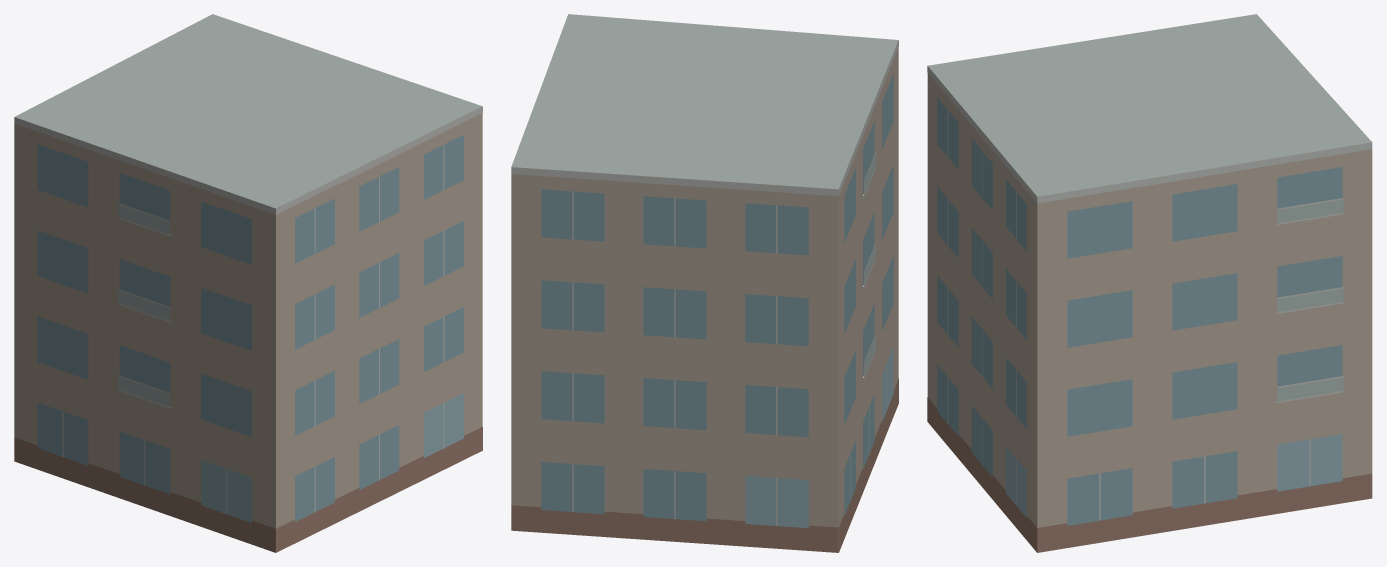
File: survey-upis-32967480.glb
3 renders of one model, left to right at view 1: azimuth 30°, elevation 25°; view 2: azimuth 150°, elevation 25°; view 3: azimuth 270°, elevation 25°, orthographic. The views are drawn at different scales.
Visible parts, largest first — view 1: survey-upis-32967480.tmp; view 2: survey-upis-32967480.tmp; view 3: survey-upis-32967480.tmp.
Boxes of the visible parts, x1,y1,x2,y2 form: survey-upis-32967480.tmp: (14, 14, 482, 552); survey-upis-32967480.tmp: (511, 14, 898, 552); survey-upis-32967480.tmp: (927, 14, 1372, 552).
Size of the model in its own units: 14.11 by 12.8 by 14.5.
